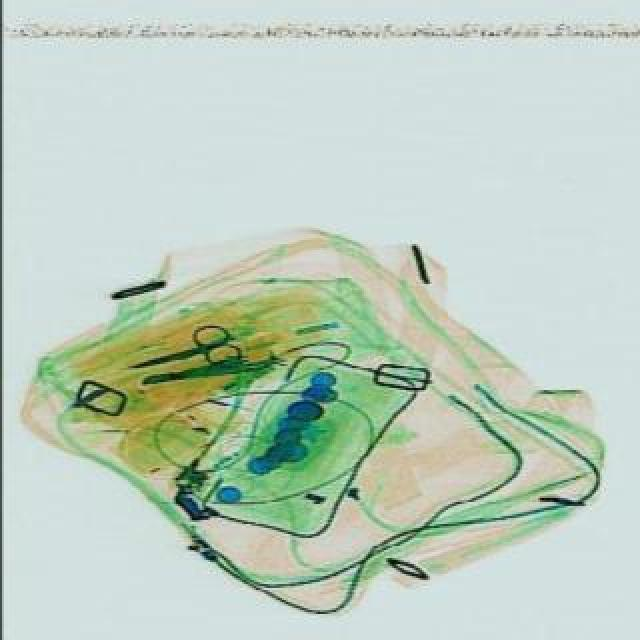pliers: (128, 316, 248, 388)
